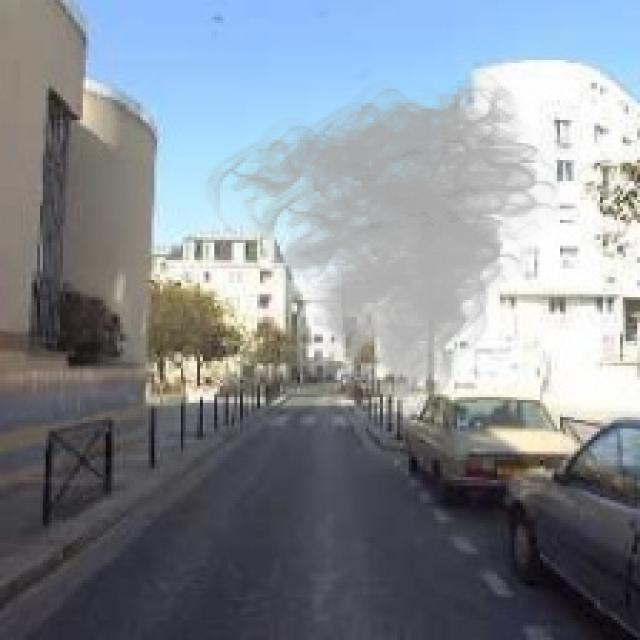Smoke: (199, 63, 572, 423)
